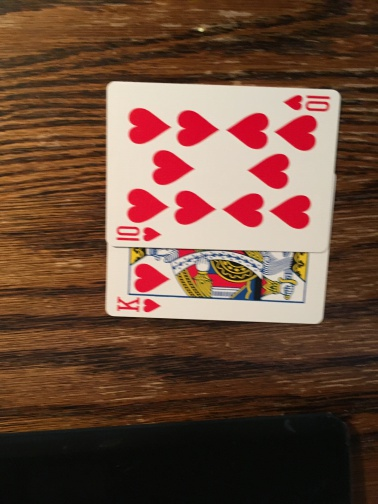king: (105, 245, 324, 325)
ten: (105, 81, 340, 249)
